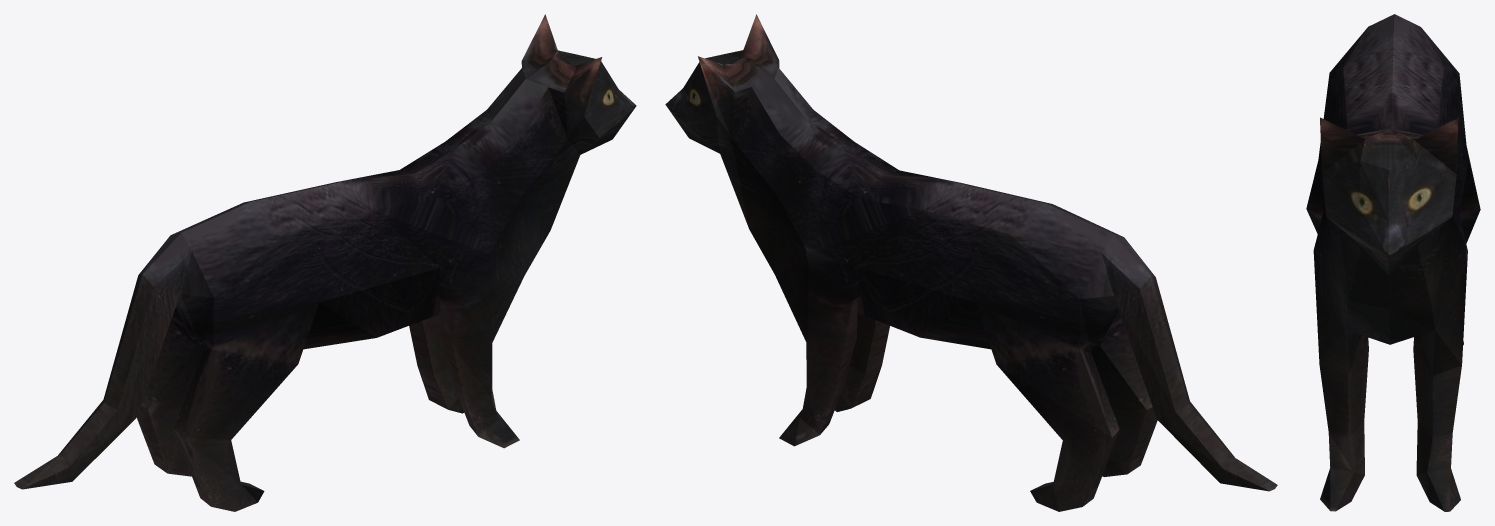
The model's file is cat_black.glb.
3 views of the same model, side by side, from view 1: azimuth 30°, elevation 25°; view 2: azimuth 150°, elevation 25°; view 3: azimuth 270°, elevation 25° (orthographic). The views are drawn at different scales.
Visible parts, largest first — view 1: ORIGAMI_Chat.001; view 2: ORIGAMI_Chat.001; view 3: ORIGAMI_Chat.001.
Part boxes in pixels (x1,y1,x2,y2): ORIGAMI_Chat.001: (14,14,636,511); ORIGAMI_Chat.001: (665,14,1277,511); ORIGAMI_Chat.001: (1306,14,1480,511).
Size of the model in its own units: 8.59 by 4.9 by 1.76.
Materials: 1 (1 with a texture image).
